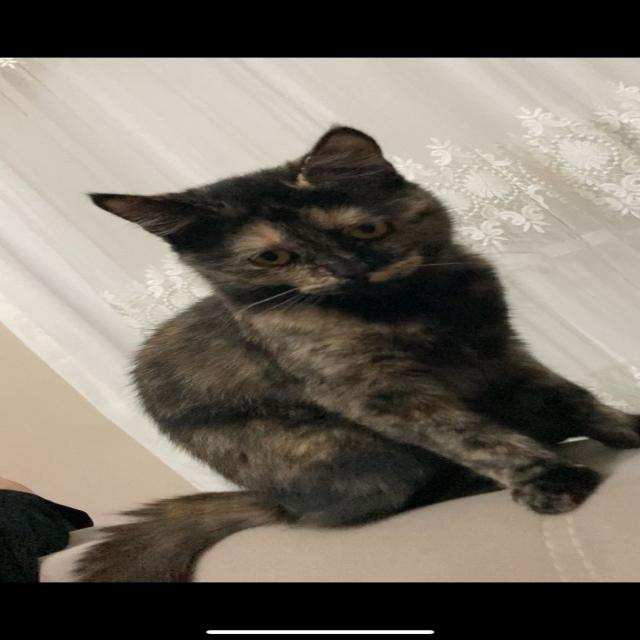authorized: (43, 123, 637, 582)
